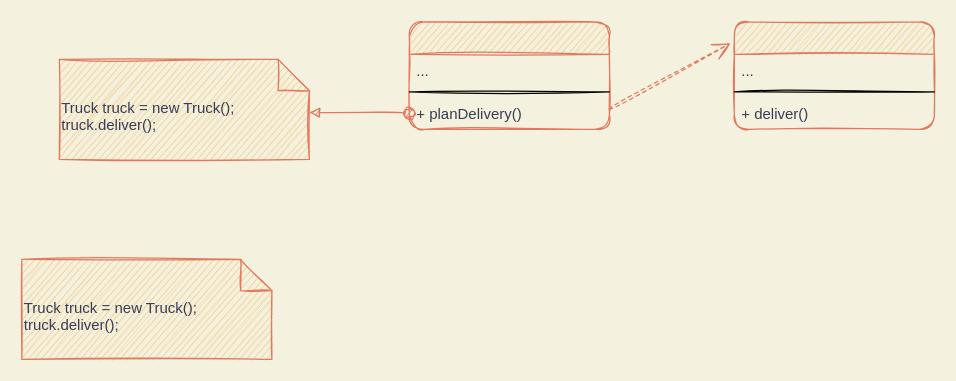
Some shapes in this 956 by 381 pixel diagram are drawn without their labels. The box of each missing label's shape, as (x1, y1, x2, y2) in pixels:
Logistics: (408, 21, 609, 129)
Truck: (733, 21, 934, 129)
